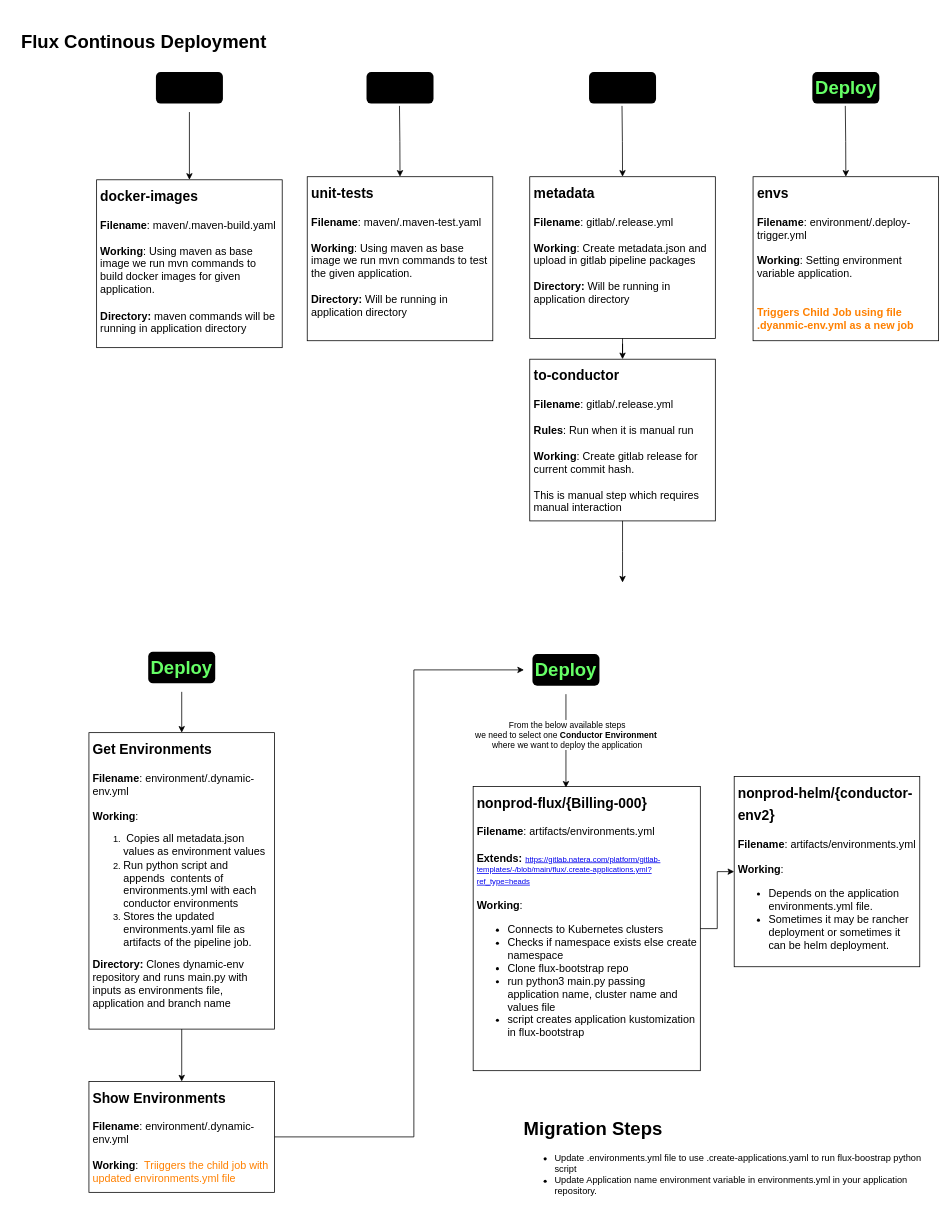
Some shapes in this 952 by 1219 pixel diagram are drawn without their labels. Here are the shapes that lost their labels. From the top down, the box of each, then its label:
(156, 72, 223, 103): Build
(366, 72, 433, 103): Test
(589, 72, 656, 103): release
